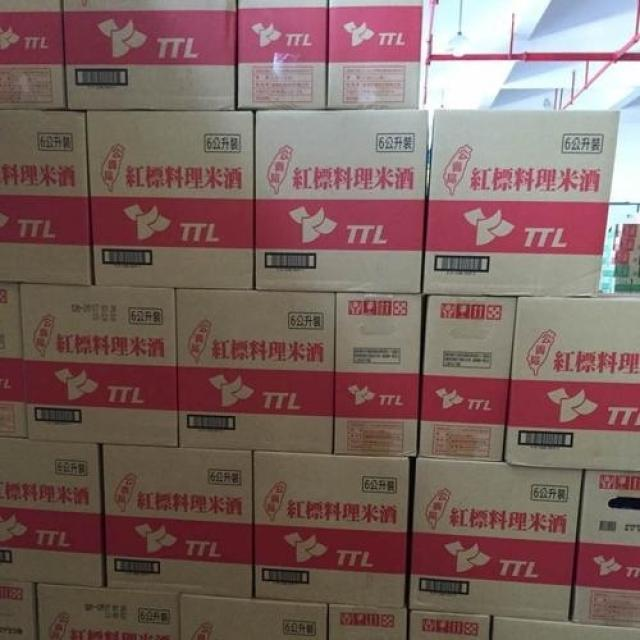box: (424, 109, 620, 297), (255, 110, 429, 293), (84, 111, 253, 291), (410, 460, 582, 622), (175, 288, 338, 452), (20, 284, 177, 448), (252, 451, 411, 608), (503, 297, 640, 474), (102, 444, 252, 599), (61, 0, 234, 111), (419, 294, 517, 461), (0, 111, 93, 285), (0, 438, 105, 588), (334, 294, 421, 457), (570, 471, 640, 627), (326, 0, 421, 111), (237, 0, 325, 111), (36, 585, 179, 639), (0, 0, 65, 109), (179, 593, 328, 639), (0, 284, 28, 439), (490, 617, 640, 640), (329, 604, 406, 640), (408, 611, 490, 640), (0, 580, 38, 640)
